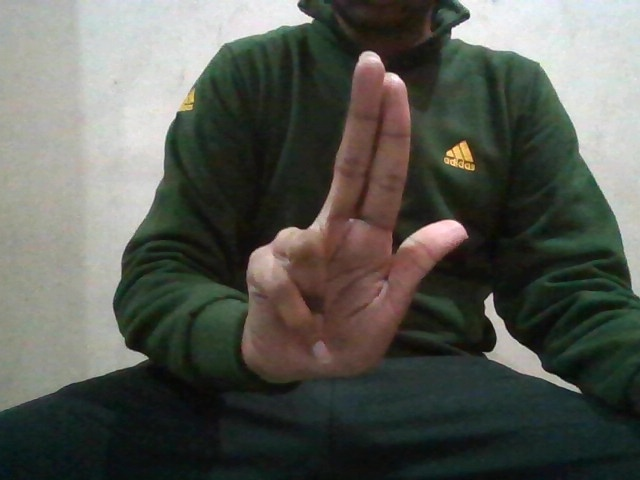K: (242, 47, 468, 382)
